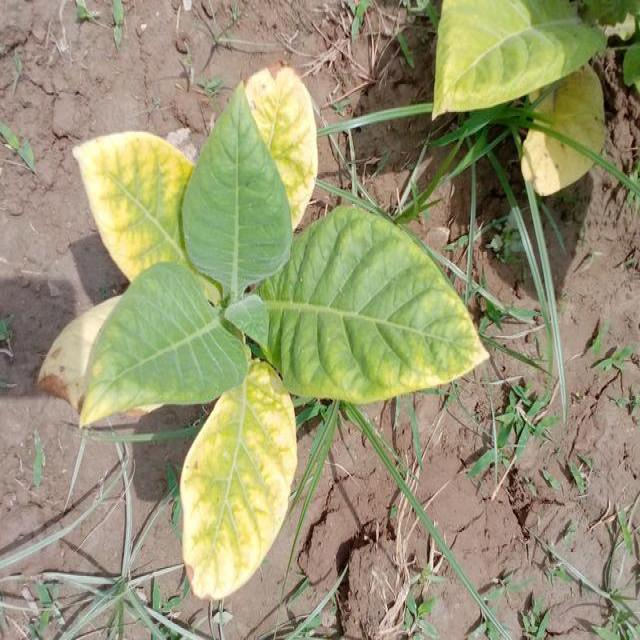crop: (38, 64, 486, 598)
